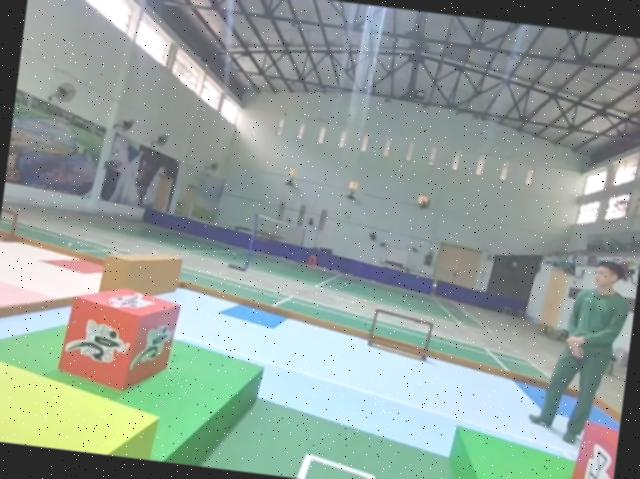R1: (56, 278, 183, 398)
R2 Real: (560, 415, 620, 479)
